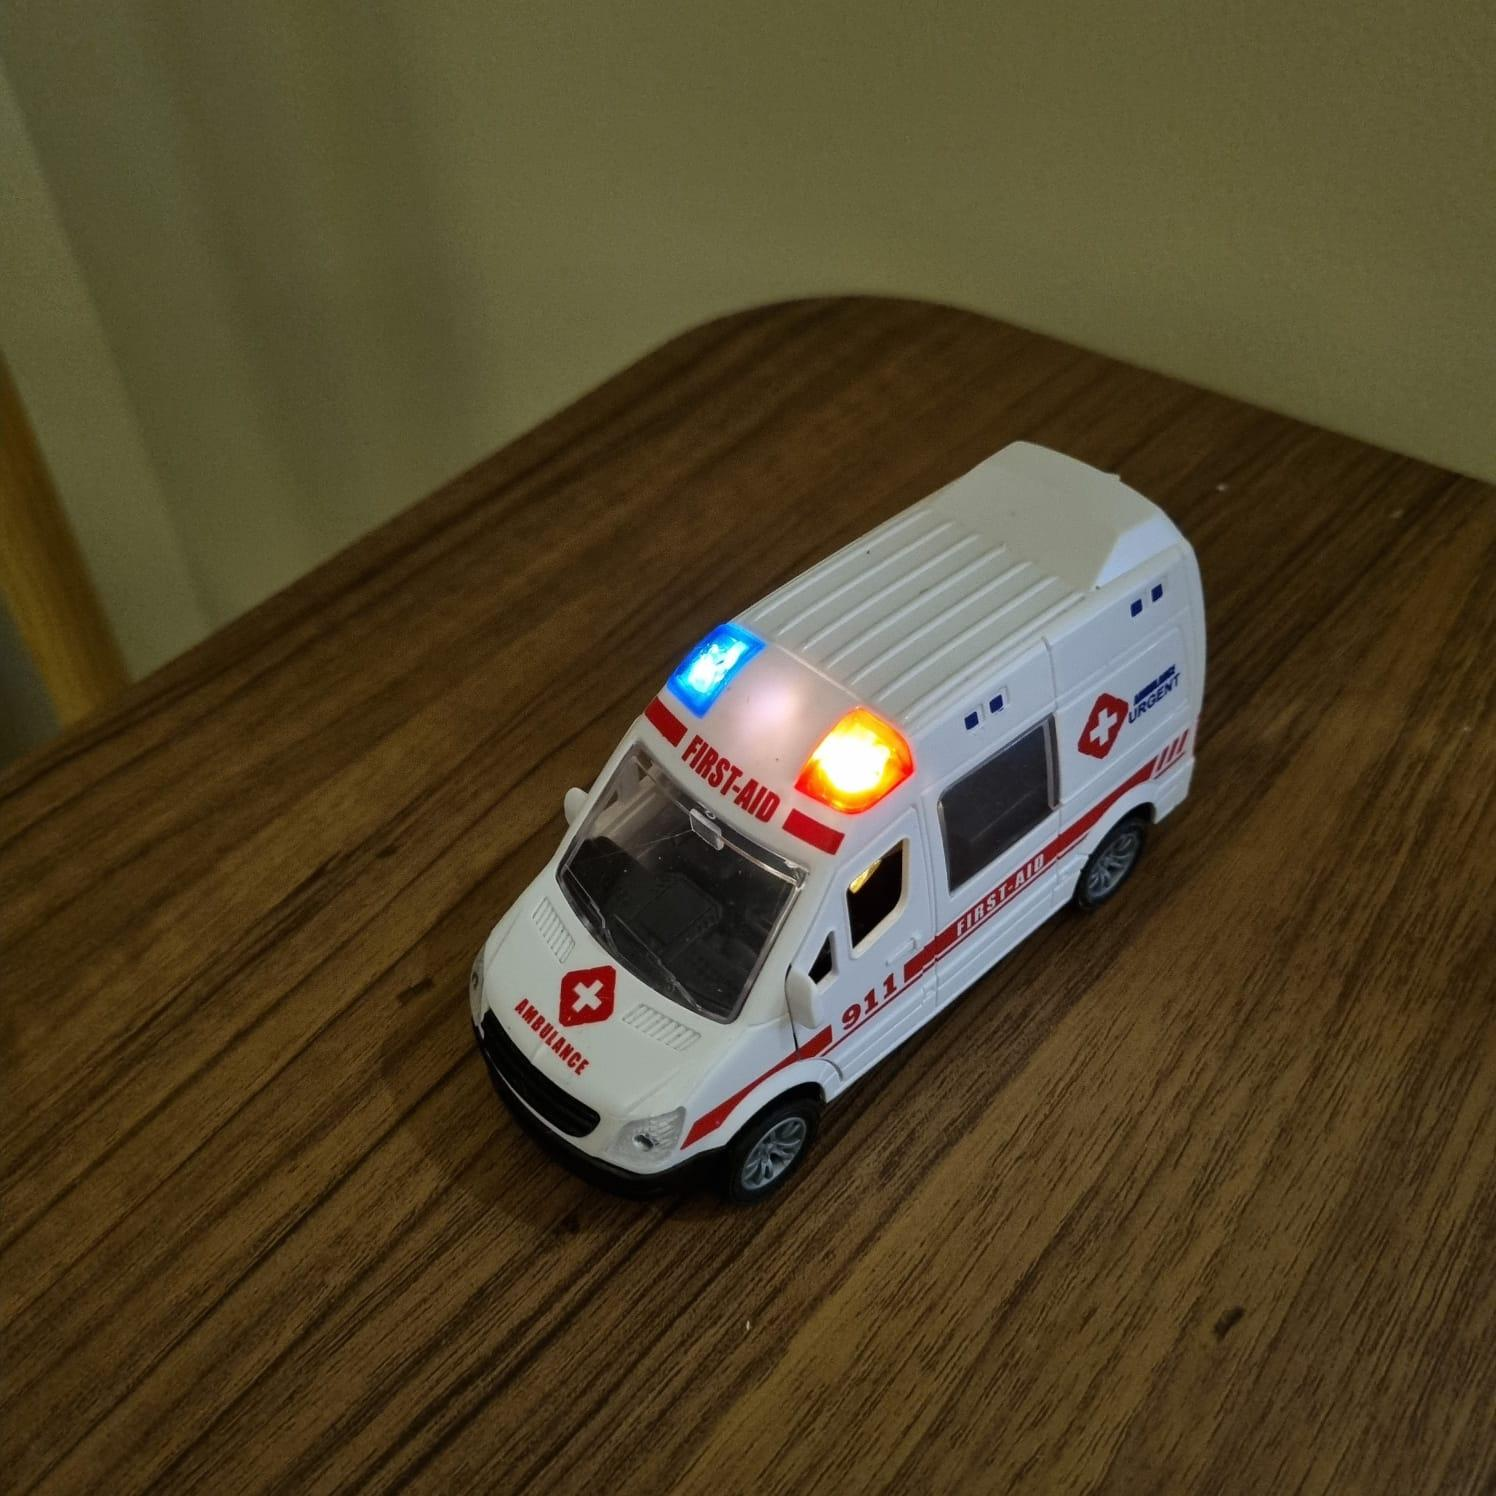ambulance_on: (469, 441, 1204, 1210)
